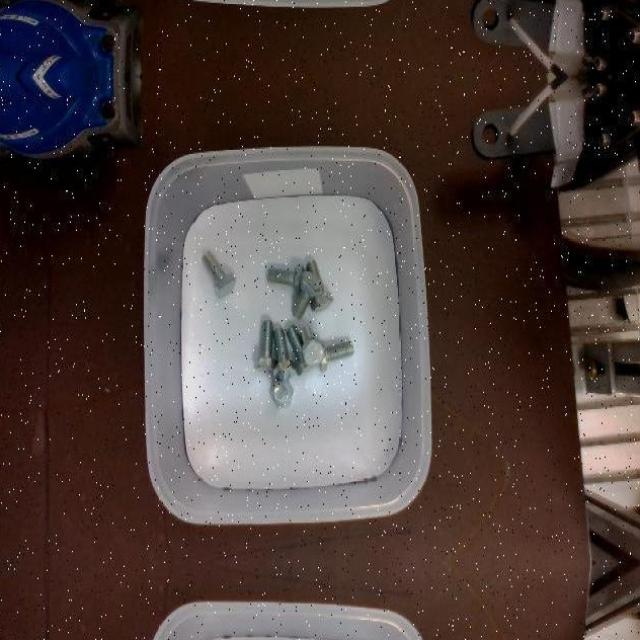screw: (202, 249, 237, 296), (293, 270, 322, 319), (254, 319, 279, 369), (268, 263, 305, 290), (302, 326, 325, 365), (269, 379, 294, 407)
